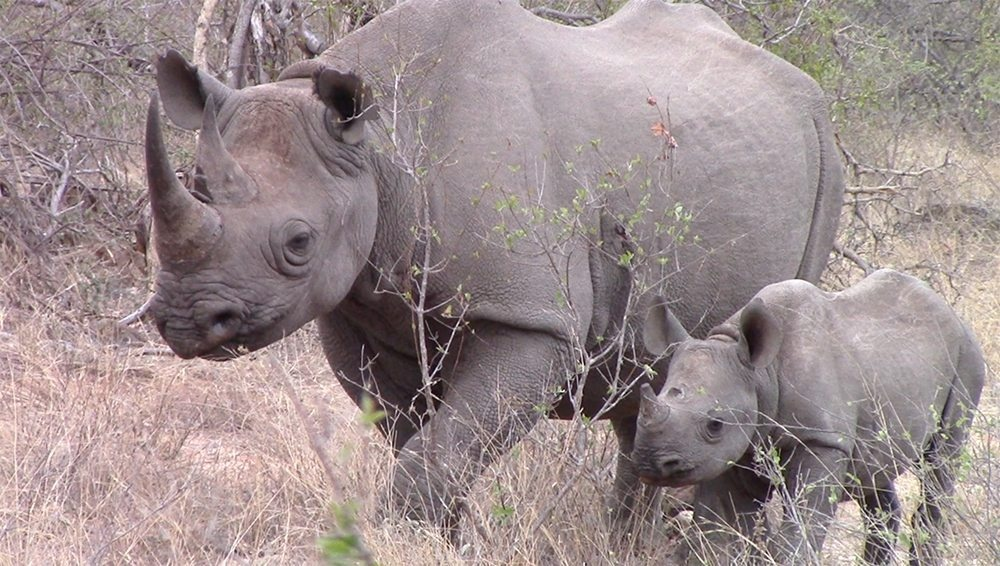rhino: (141, 1, 845, 546), (630, 265, 985, 565)
